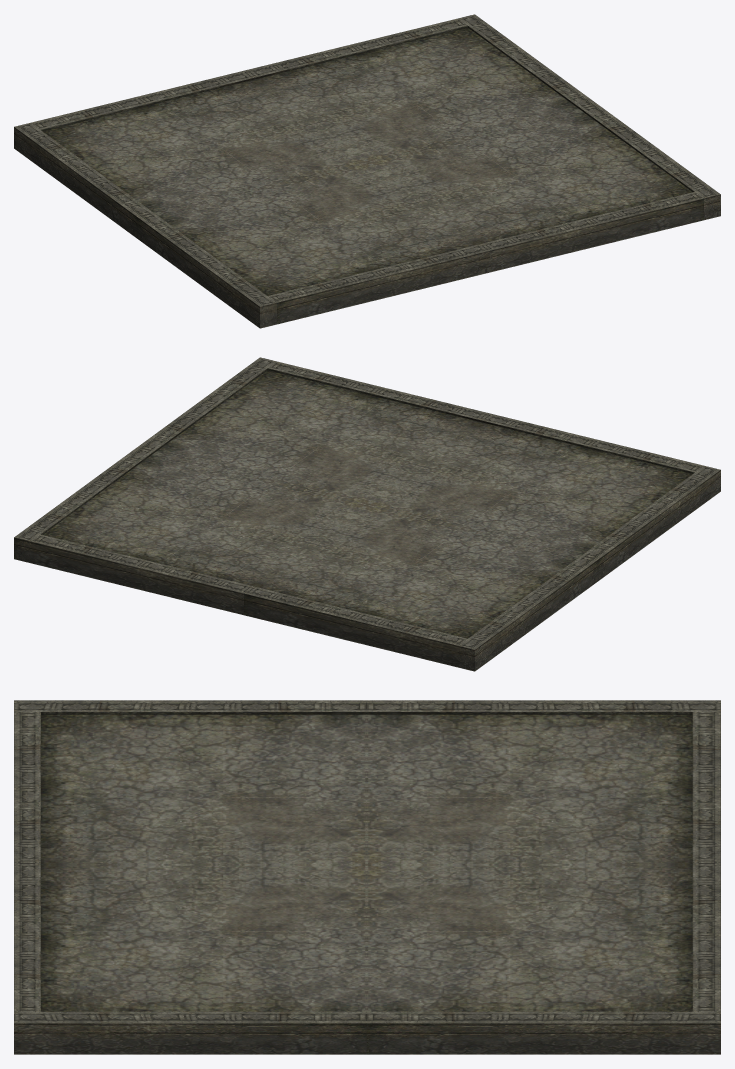
The model's file is dawnmist_floor00.glb.
3 renders of one model, top to bottom at view 1: azimuth 30°, elevation 25°; view 2: azimuth 150°, elevation 25°; view 3: azimuth 270°, elevation 25°, orthographic. The views are drawn at different scales.
Parts seen in each view (by area): view 1: DawnMist_floor00; view 2: DawnMist_floor00; view 3: DawnMist_floor00.
Boxes of the visible parts, x1=… form: DawnMist_floor00: x1=14, y1=14, x2=720, y2=328; DawnMist_floor00: x1=14, y1=357, x2=720, y2=671; DawnMist_floor00: x1=14, y1=700, x2=720, y2=1054.
Bounding box in the file's own units: 57.08 × 2.57 × 52.79.
1 material, 1 textured.
